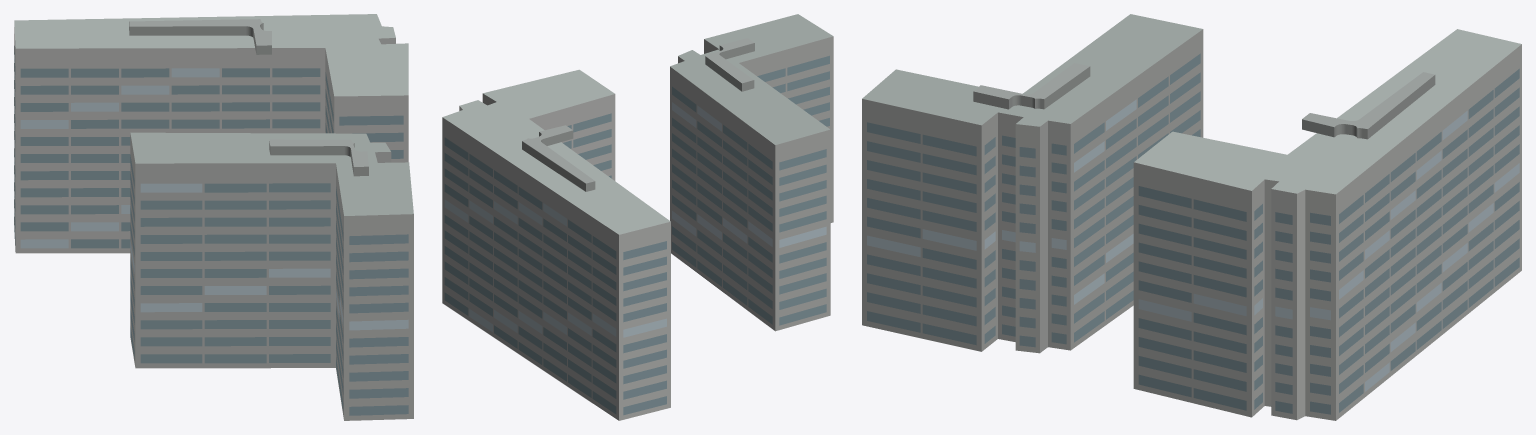
Rendered from apt-a15009502.glb.
3 renders of one model, left to right at view 1: azimuth 30°, elevation 25°; view 2: azimuth 150°, elevation 25°; view 3: azimuth 270°, elevation 25°, orthographic. The views are drawn at different scales.
Visible parts, largest first — view 1: apt-a15009502; view 2: apt-a15009502; view 3: apt-a15009502.
Boxes of the visible parts, x1,y1,x2,y2 form: apt-a15009502: (14, 14, 413, 420); apt-a15009502: (442, 14, 833, 420); apt-a15009502: (862, 14, 1521, 420).
Size of the model in its own units: 62.52 by 38.25 by 96.64.
